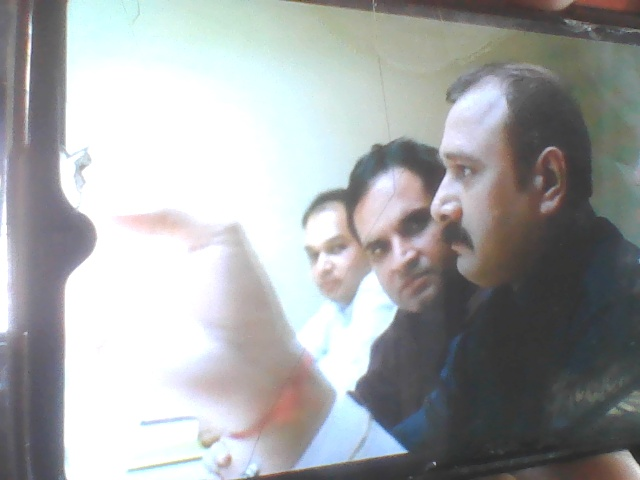fake: (399, 66, 563, 298), (340, 126, 481, 326)
